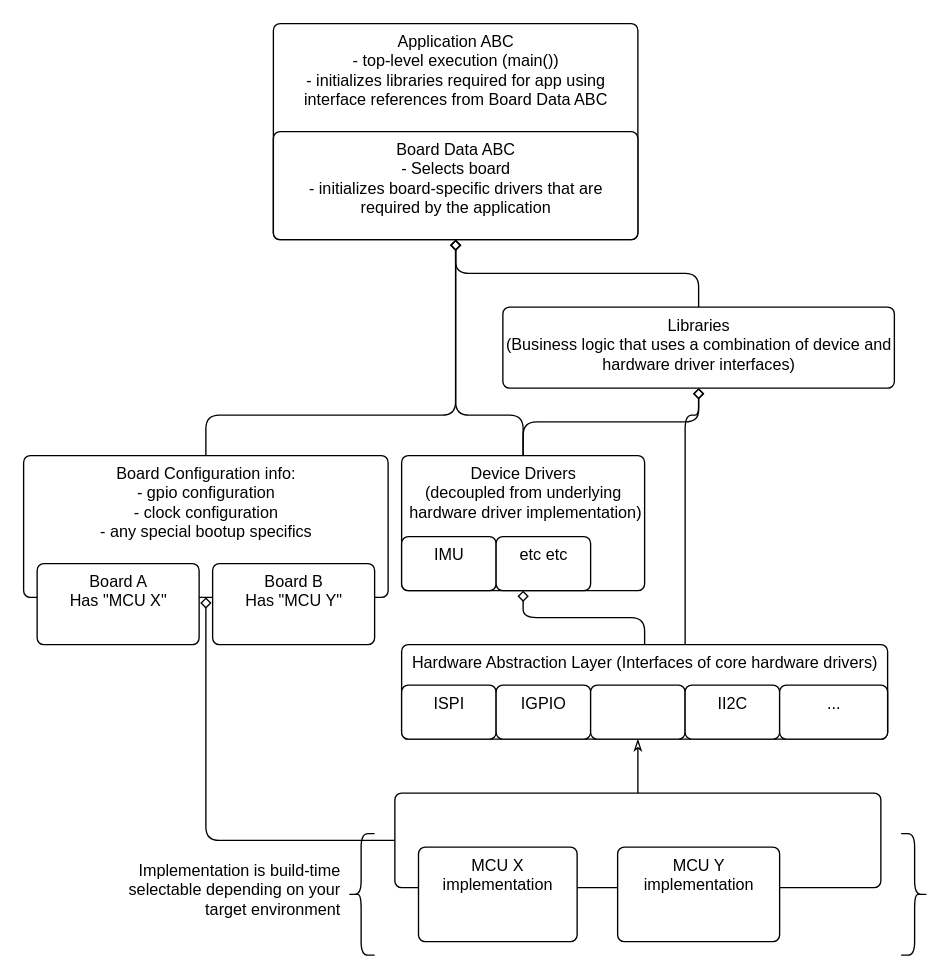
Some shapes in this 952 by 979 pixel diagram are drawn without their labels. The centre of each missing label's shape, as x and y in pixels:
"Hardware-specific implementations of interfaces" goes at [637,840].
"IUART" goes at [637,711].
